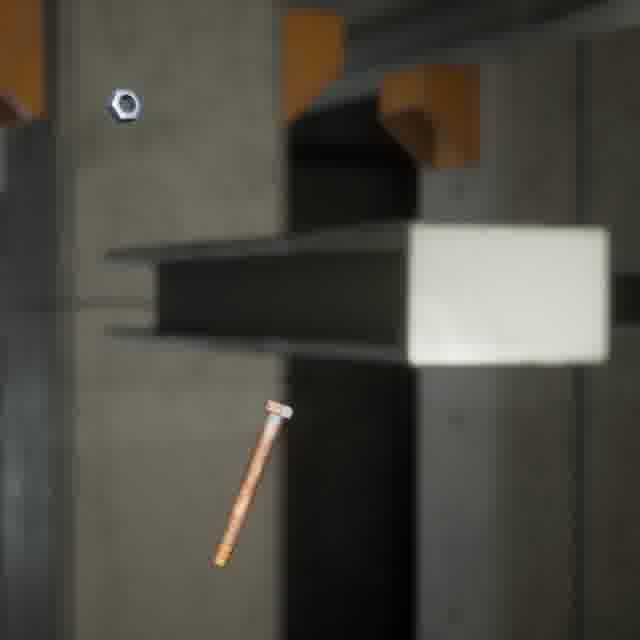bolt: (207, 394, 297, 571)
nut: (101, 84, 146, 126)
